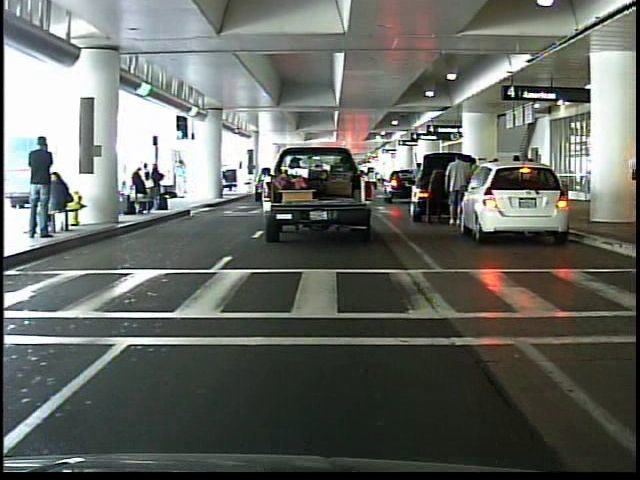person: (25, 135, 62, 244), (444, 151, 467, 226), (408, 159, 429, 213), (173, 159, 190, 201)
